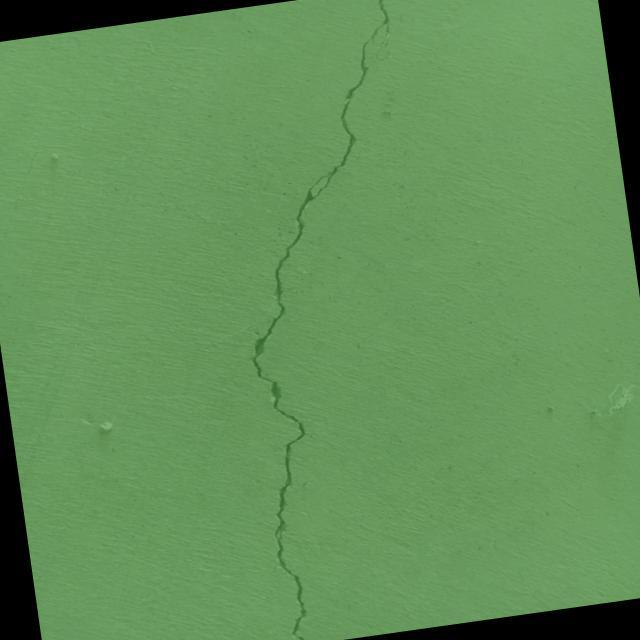crack: (198, 0, 475, 640), (378, 50, 391, 63)
